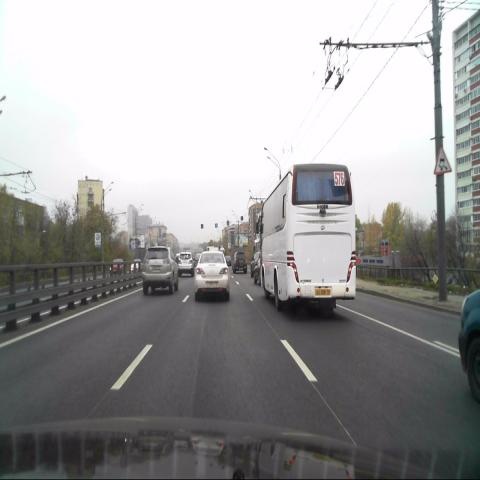1_15: (433, 144, 453, 176)
